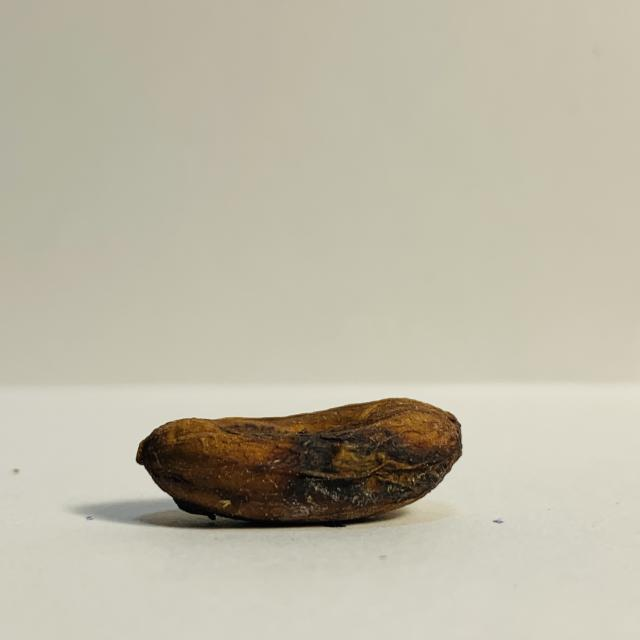Fine_cocoabeans: (84, 375, 511, 564)
